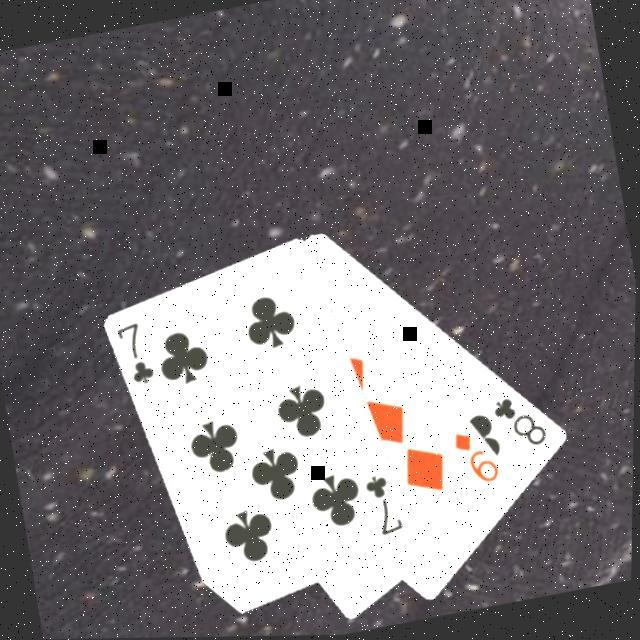7C: (362, 468, 411, 542), (113, 316, 162, 390)
8C: (489, 386, 555, 456)
9D: (448, 422, 508, 492)
